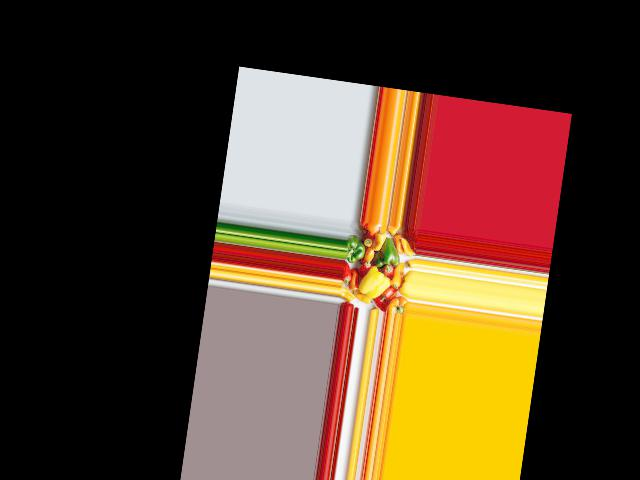bell_pepper: (340, 263, 355, 286)
